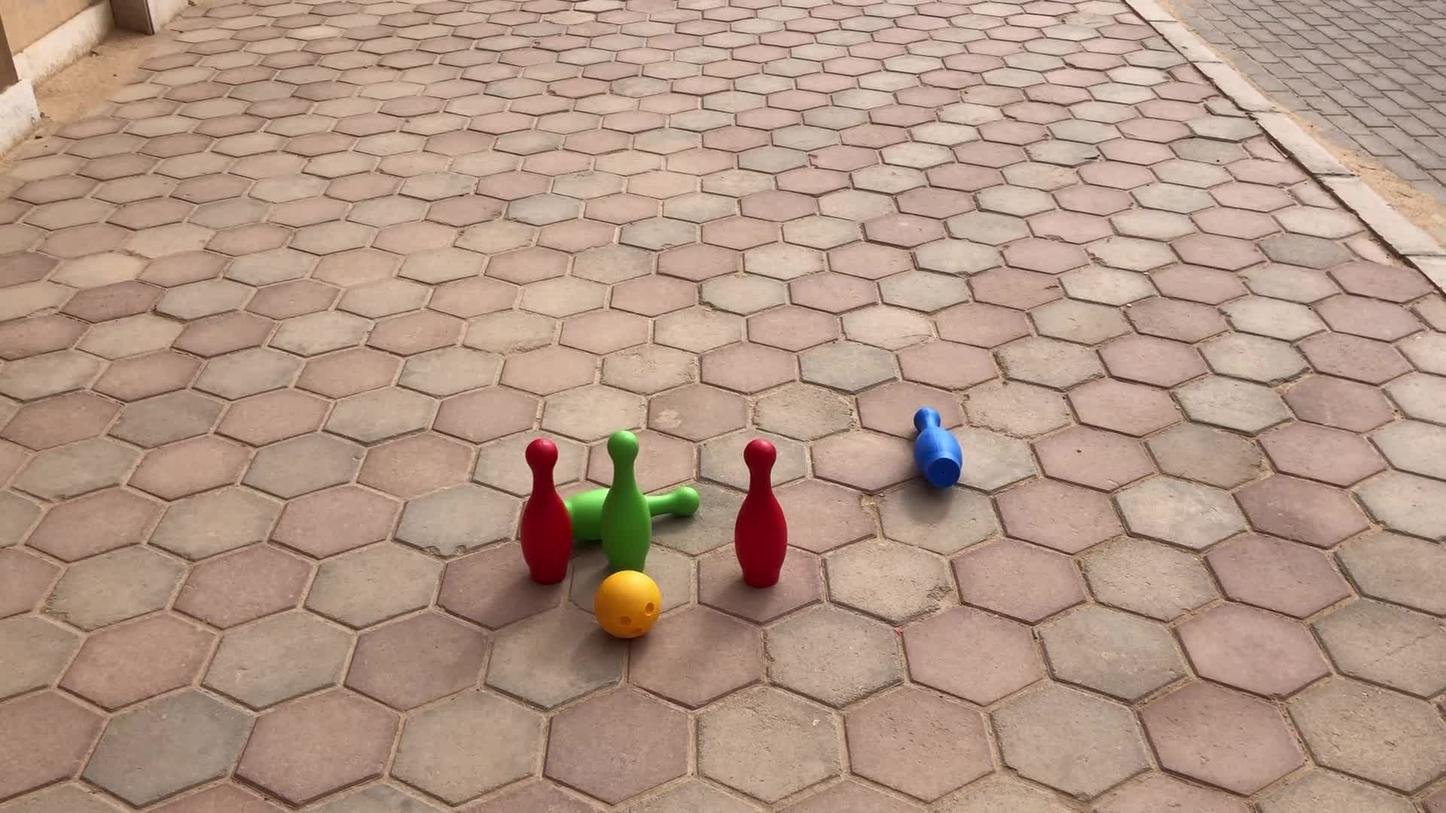pin: (735, 437, 787, 587), (520, 437, 572, 585), (602, 431, 652, 571), (914, 409, 962, 492), (566, 489, 608, 549)
